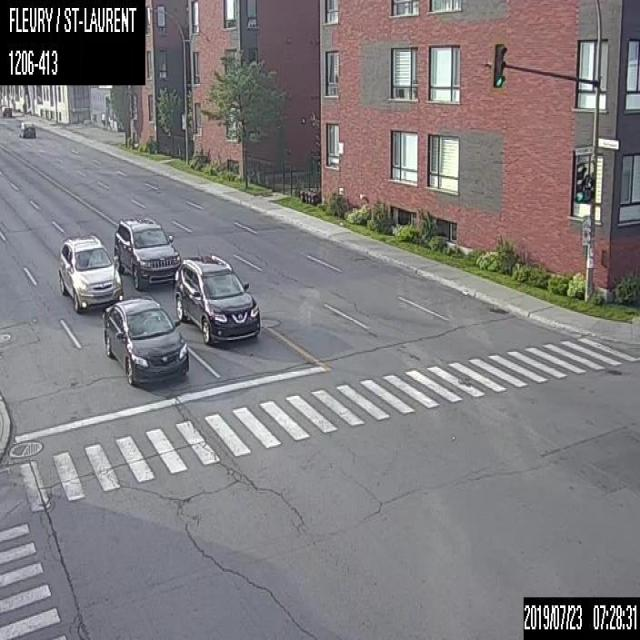vehicle: (174, 255, 259, 345), (102, 296, 188, 384), (57, 235, 122, 312), (112, 217, 180, 290), (19, 123, 36, 136), (0, 104, 11, 116)
